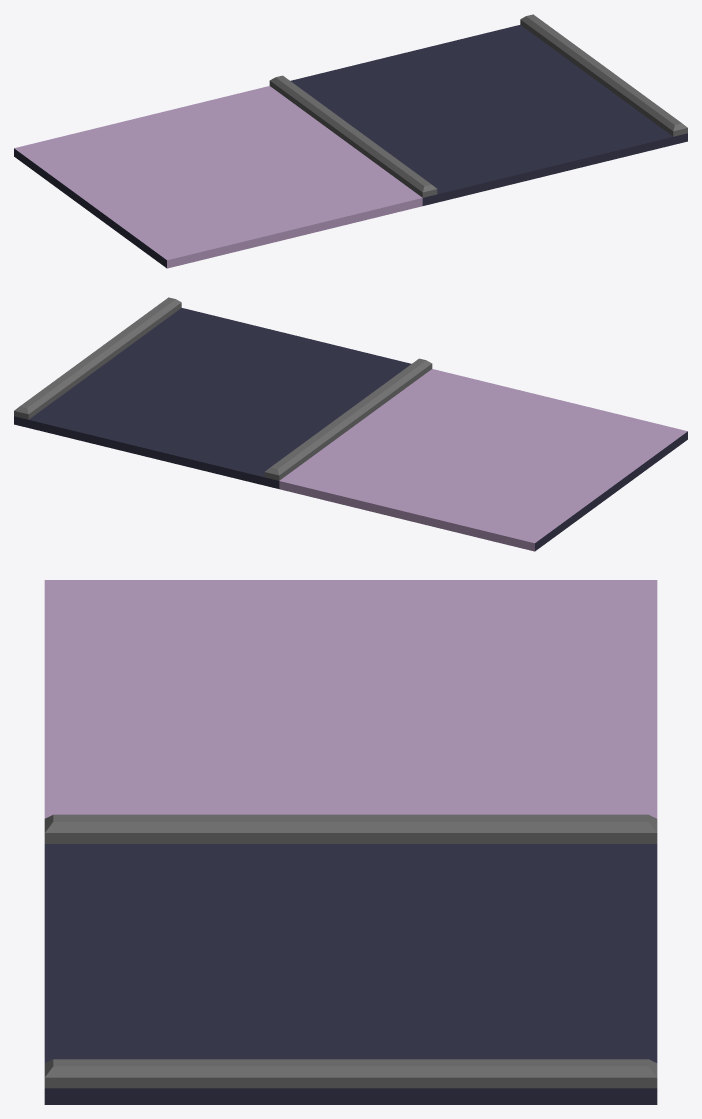
Rendered from Floor1.fbx.
3 renders of one model, top to bottom at view 1: azimuth 30°, elevation 25°; view 2: azimuth 150°, elevation 25°; view 3: azimuth 270°, elevation 25°, orthographic. The views are drawn at different scales.
Parts seen in each view (by area): view 1: Floor_1; view 2: Floor_1; view 3: Floor_1.
Boxes of the visible parts, x1,y1,x2,y2 form: Floor_1: (14,14,687,268); Floor_1: (14,297,687,551); Floor_1: (44,580,657,1104).
Size of the model in its own units: 1074 by 34.49 by 547.
